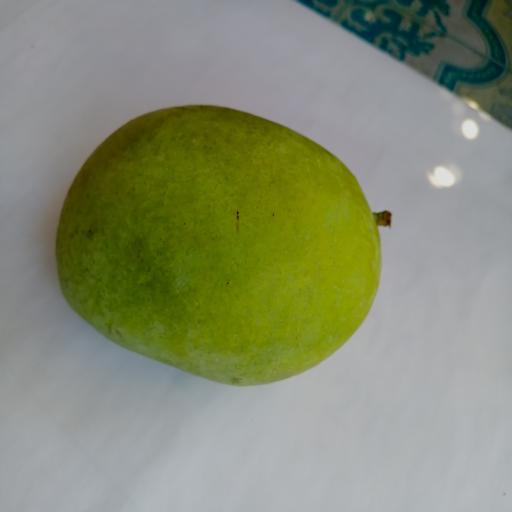mango-unripe: (49, 98, 418, 397)
